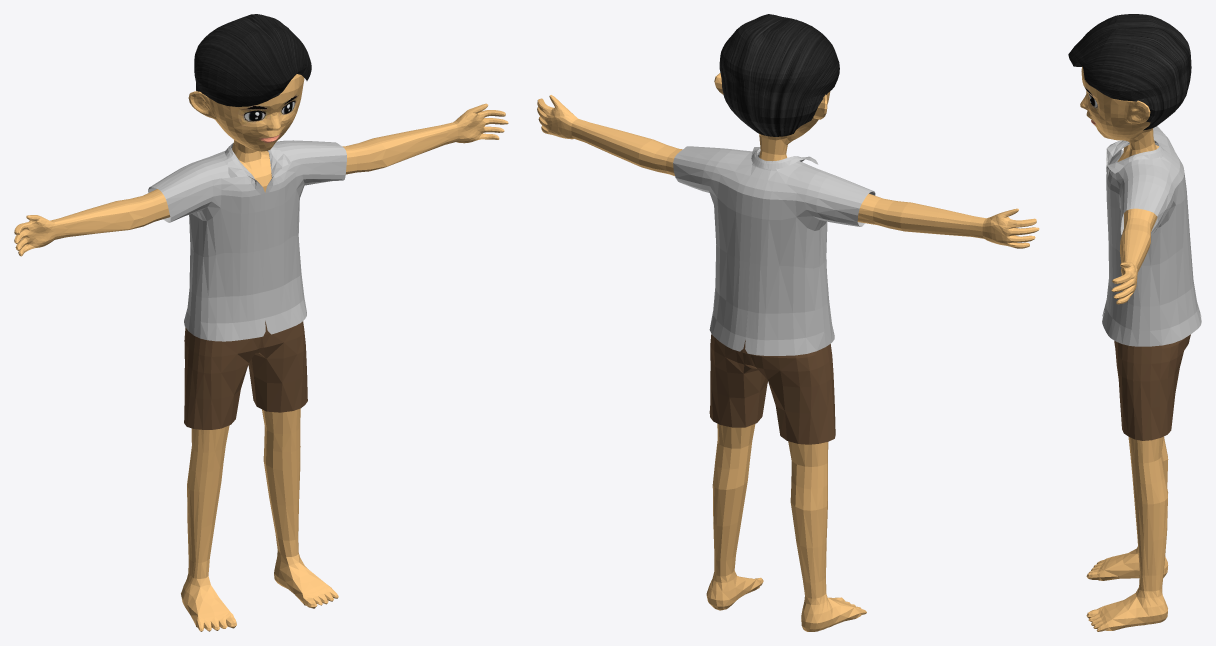
The model's file is Boy.obj.
The picture shows the model from 3 angles, left to right: view 1: azimuth 30°, elevation 25°; view 2: azimuth 150°, elevation 25°; view 3: azimuth 270°, elevation 25°; orthographic projection.
Bounding box in the file's own units: 16.04 × 17.95 × 3.75.
